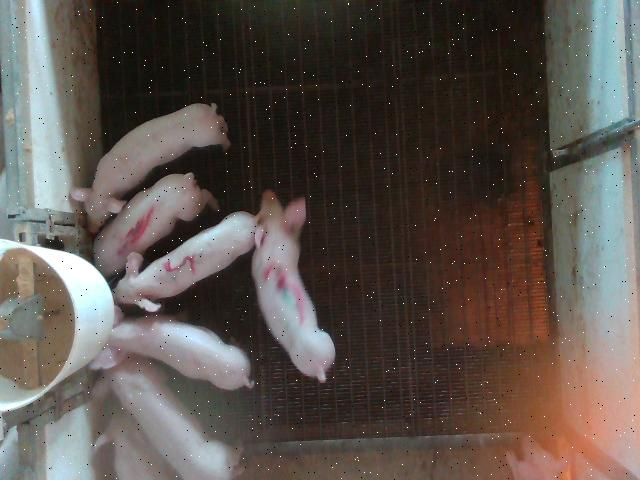pig-1: (94, 172, 216, 277)
pig-3: (251, 190, 335, 382)
pig-5: (114, 211, 256, 312)
